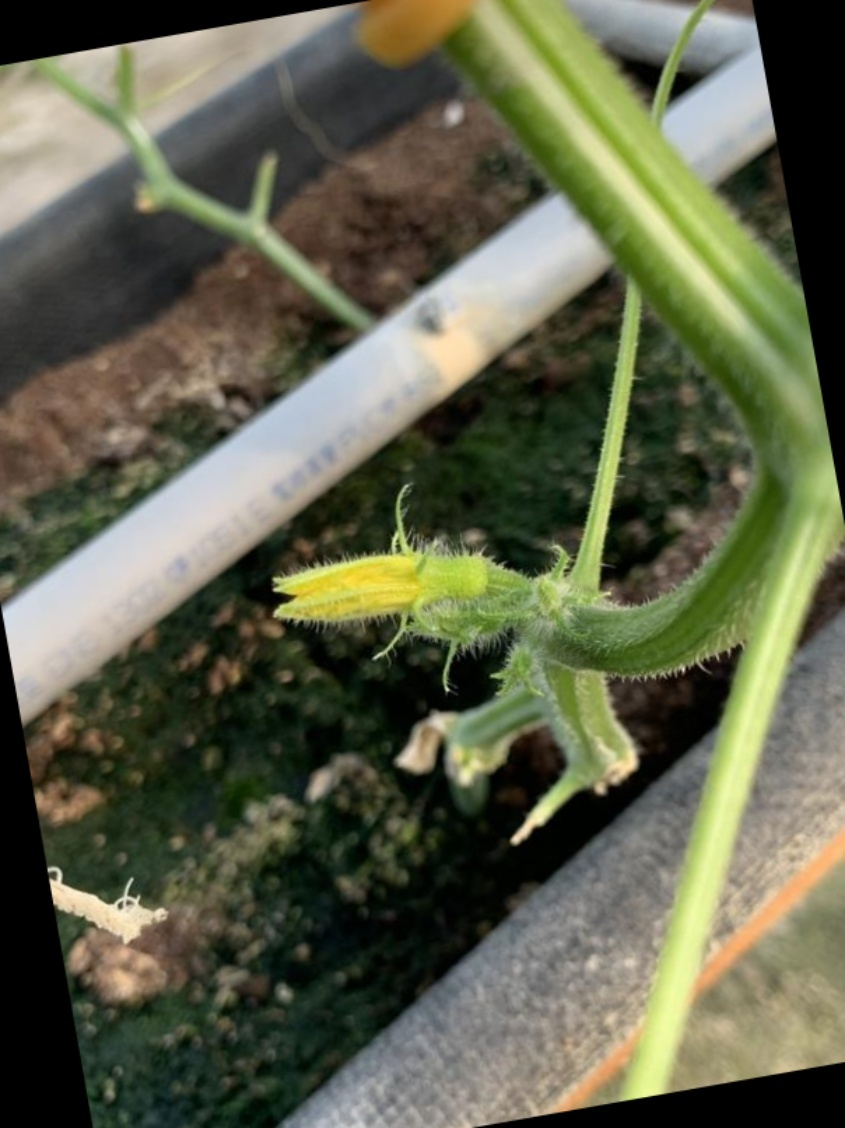bud: (269, 544, 530, 658)
